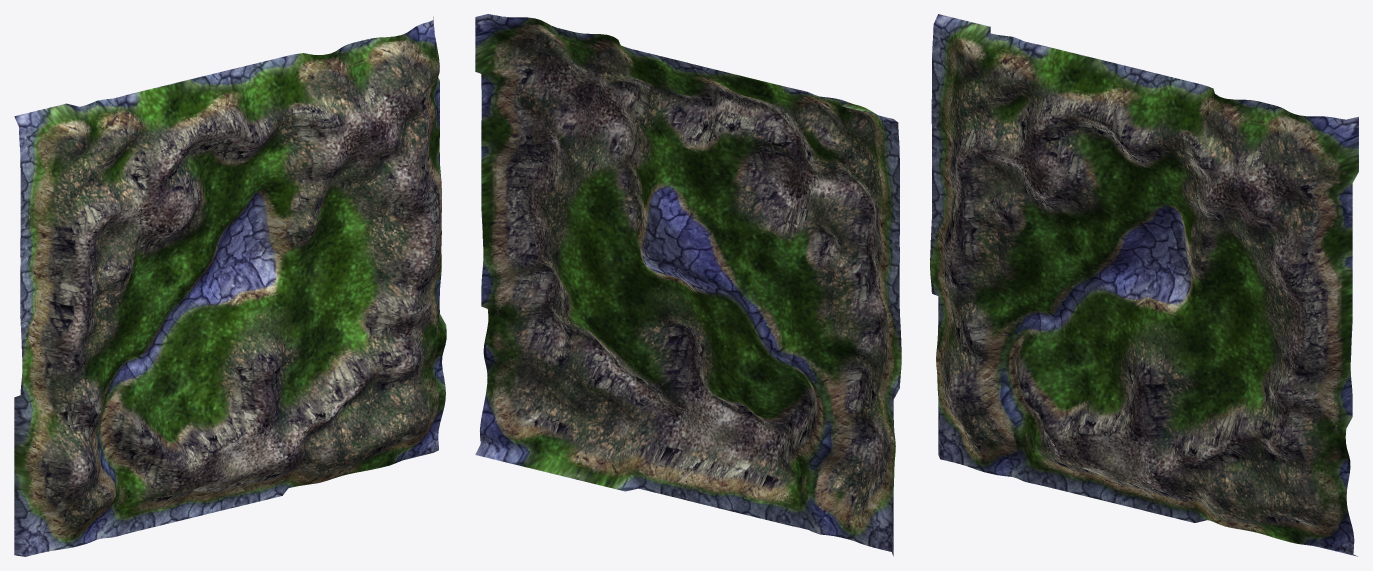
Rendered from terrain.obj.
3 renders of one model, left to right at view 1: azimuth 30°, elevation 25°; view 2: azimuth 150°, elevation 25°; view 3: azimuth 330°, elevation 25°, orthographic.
Visible parts, largest first — view 1: Plane001; view 2: Plane001; view 3: Plane001.
Part boxes in pixels (bbox=[...]): Plane001: bbox=[14, 16, 446, 556]; Plane001: bbox=[475, 14, 901, 556]; Plane001: bbox=[930, 14, 1358, 556].
Bounding box in the file's own units: 2048 × 2048 × 249.
1 material, 1 textured.
